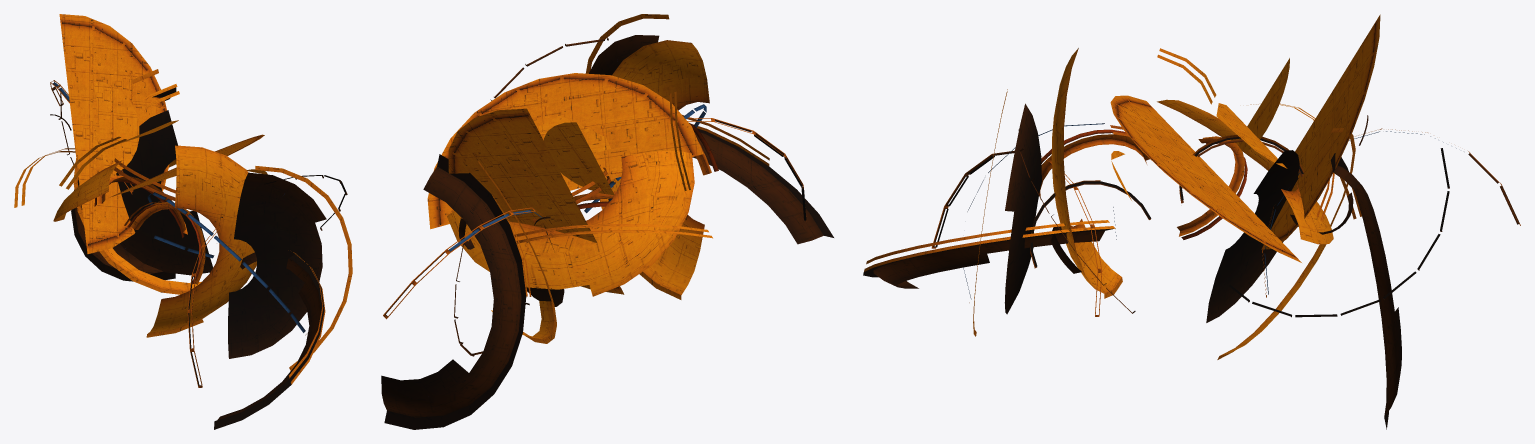
Rendered from MonsterB_Die16.obj.
3 views of the same model, side by side, from view 1: azimuth 30°, elevation 25°; view 2: azimuth 150°, elevation 25°; view 3: azimuth 270°, elevation 25° (orthographic). The views are drawn at different scales.
Parts seen in each view (by area): view 1: Sphere001; view 2: Sphere001; view 3: Sphere001.
Boxes of the visible parts, x1,y1,x2,y2 form: Sphere001: (14, 14, 352, 429); Sphere001: (381, 14, 833, 429); Sphere001: (863, 14, 1520, 429).
Size of the model in its own units: 254 by 270 by 463.
1 material, 1 textured.
